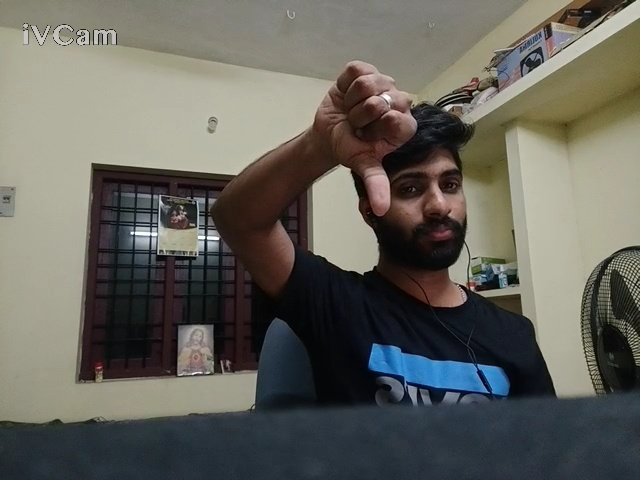No: (264, 52, 435, 223)
